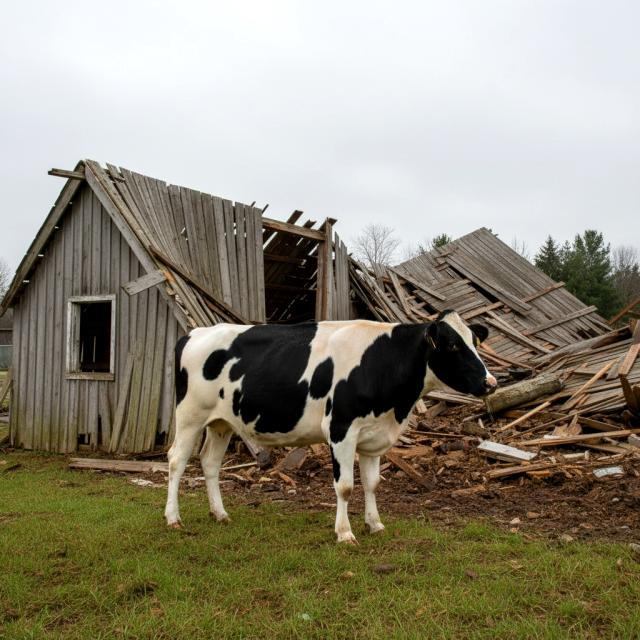cow: (138, 295, 506, 557)
